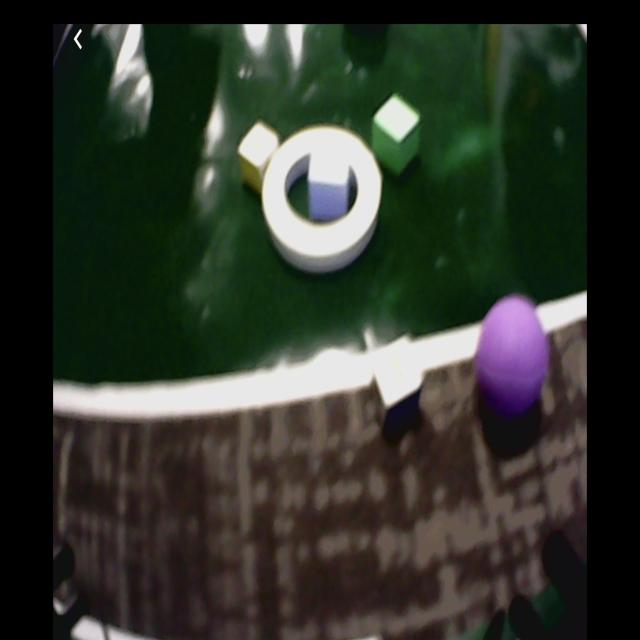ball: (473, 295, 552, 415)
